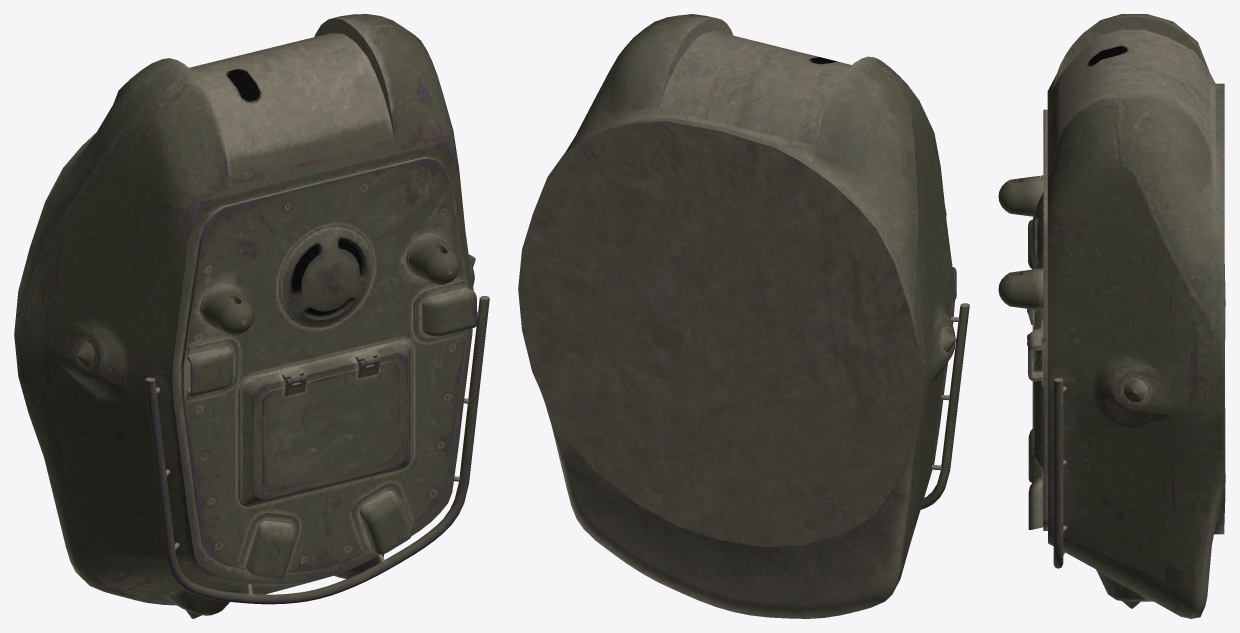
Rendered from Turret_01.glb.
3 views of the same model, side by side, from view 1: azimuth 30°, elevation 25°; view 2: azimuth 150°, elevation 25°; view 3: azimuth 270°, elevation 25° (orthographic). The views are drawn at different scales.
Parts seen in each view (by area): view 1: set_0_group_0; view 2: set_0_group_0; view 3: set_0_group_0.
Part boxes in pixels (x1,y1,x2,y2): set_0_group_0: [14, 14, 489, 618]; set_0_group_0: [518, 14, 969, 618]; set_0_group_0: [998, 14, 1225, 618].
Bounding box in the file's own units: 1.78 × 2.3 × 0.8903.
Materials: 1 (1 with a texture image).
